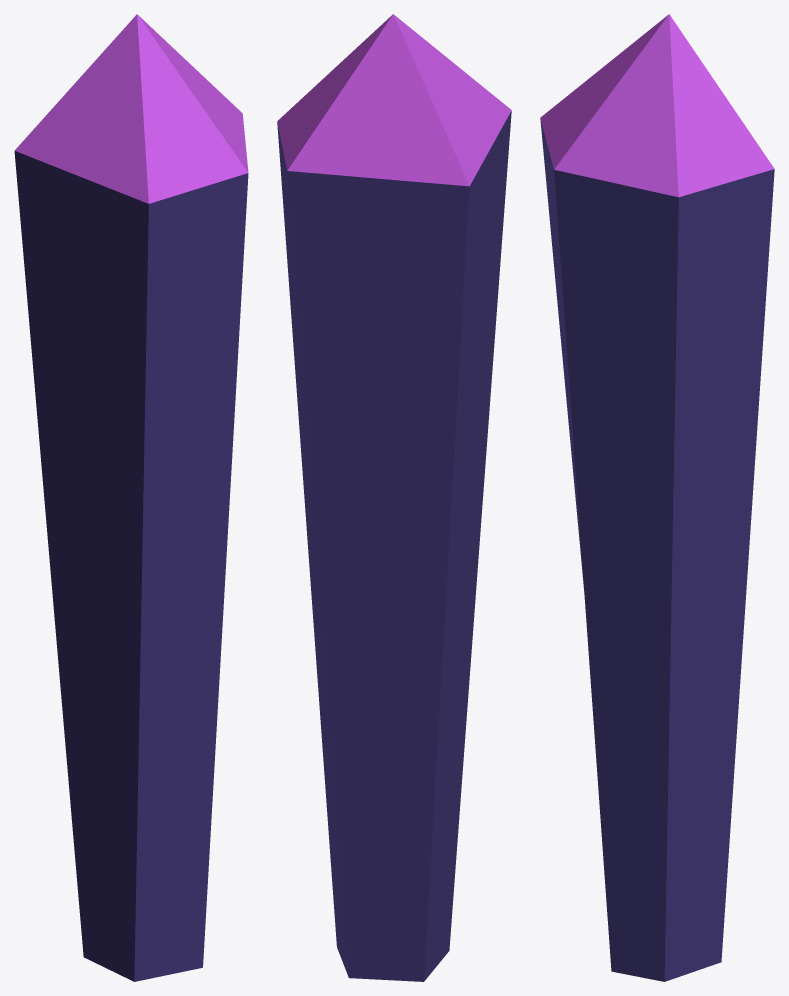
Rendered from CrystalSmall_001.fbx.
3 renders of one model, left to right at view 1: azimuth 30°, elevation 25°; view 2: azimuth 150°, elevation 25°; view 3: azimuth 270°, elevation 25°, orthographic.
Parts seen in each view (by area): view 1: Cube.012; view 2: Cube.012; view 3: Cube.012.
Boxes of the visible parts, bbox=[...] form: Cube.012: bbox=[14, 14, 248, 981]; Cube.012: bbox=[277, 14, 511, 981]; Cube.012: bbox=[540, 14, 774, 981].
Bounding box in the file's own units: 162 × 694 × 157.
